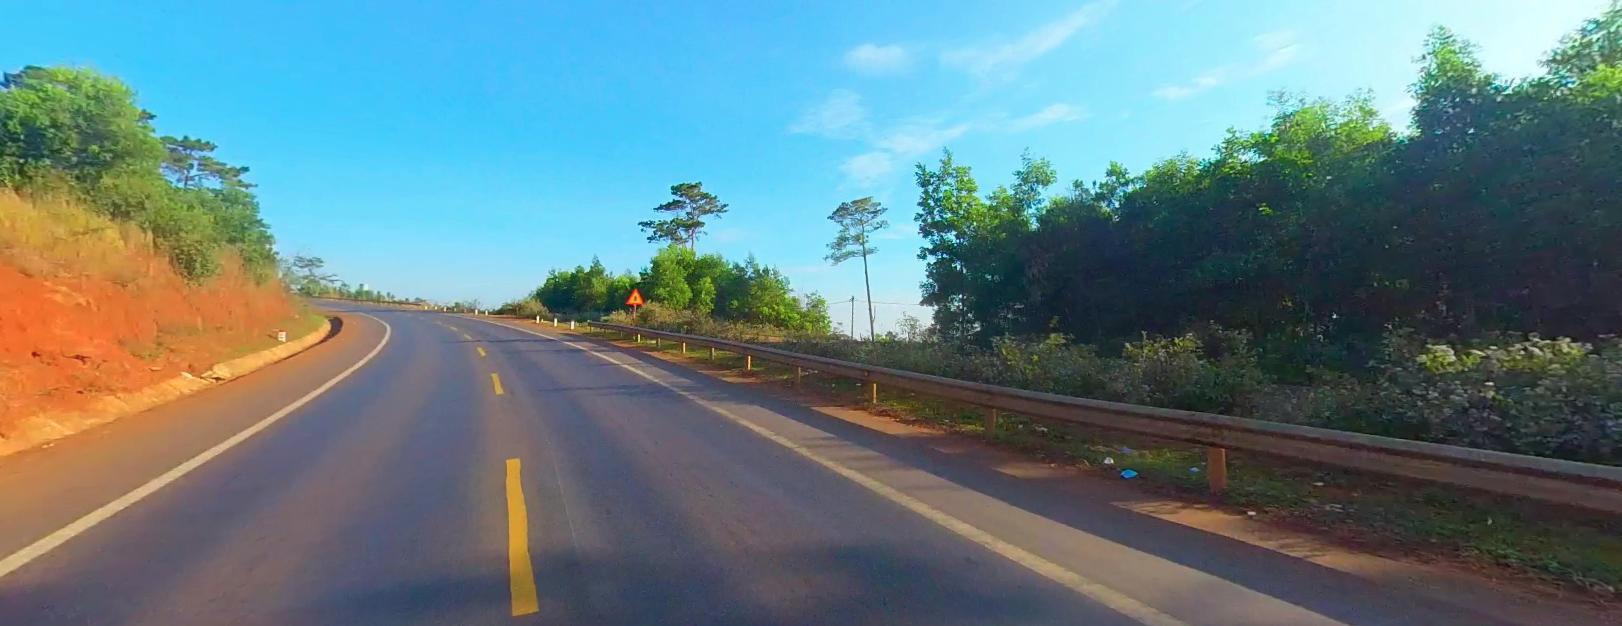Nguy hiem: (625, 287, 643, 303)
